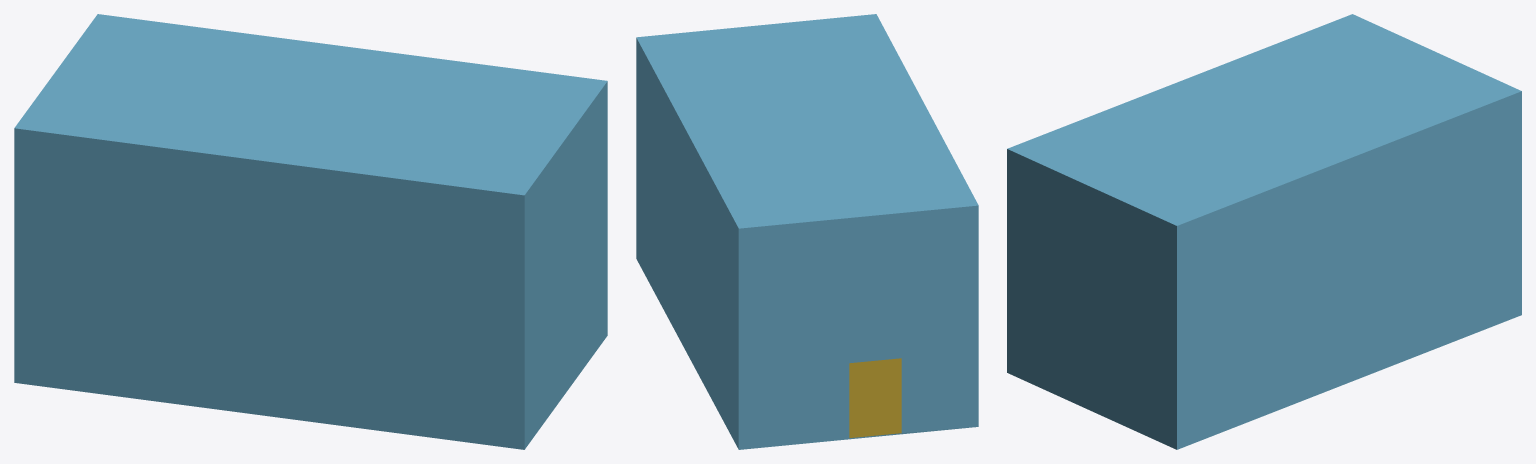
Rendered from bldg_436ccc9e-cca6-4e8b-9b93-2b84cb5f0cbc.obj.
3 renders of one model, left to right at view 1: azimuth 30°, elevation 25°; view 2: azimuth 150°, elevation 25°; view 3: azimuth 270°, elevation 25°, orthographic. The views are drawn at different scales.
Bounding box in the file's own units: 13.02 × 6.41 × 13.36.
